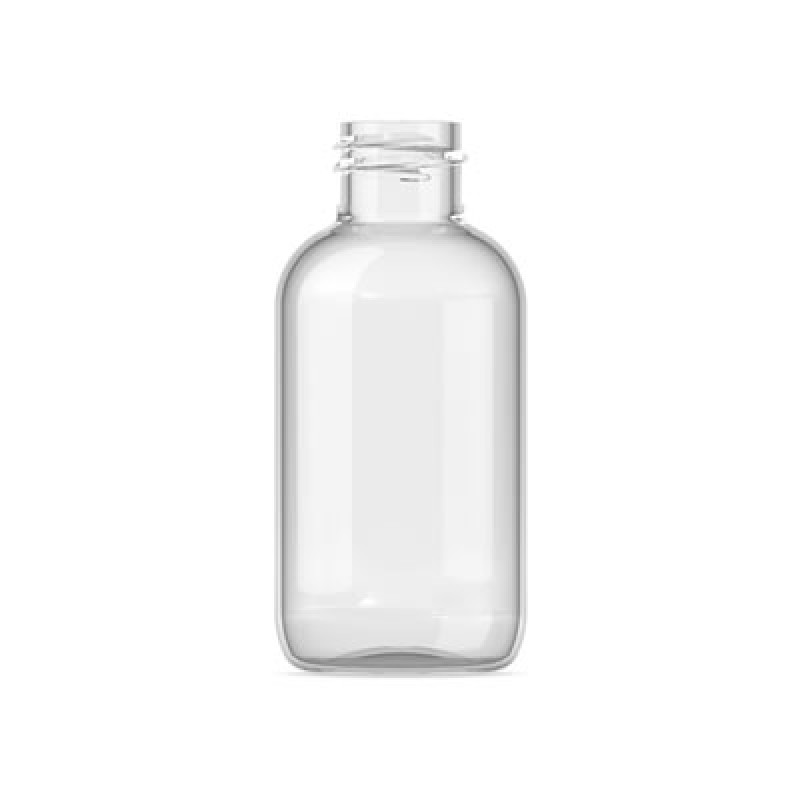emptybottle: (278, 121, 520, 669)
